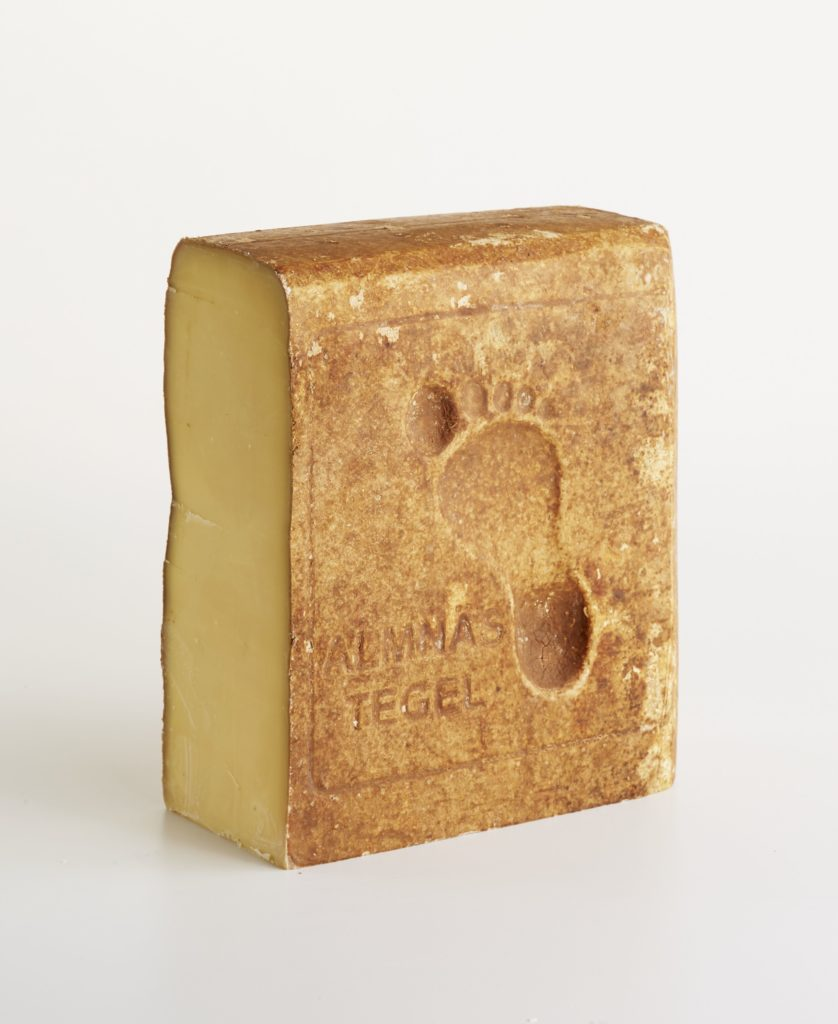cheese: (130, 196, 709, 908)
